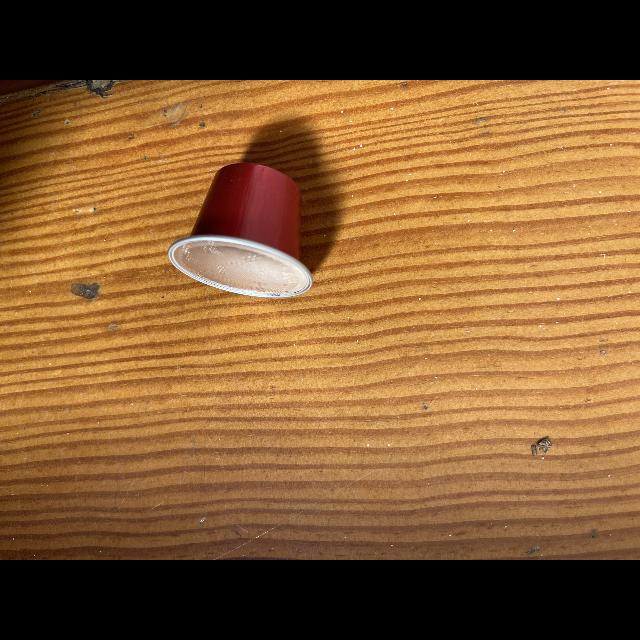intact_capsule: (156, 150, 330, 314)
